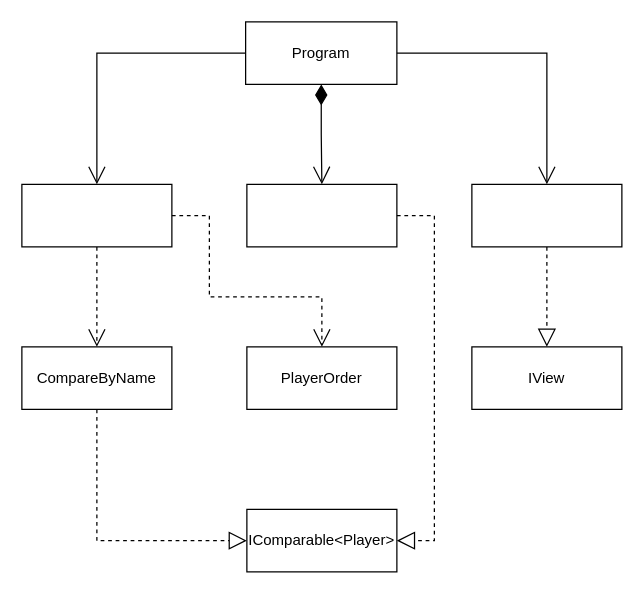
The diagram is 644 pixels wide and 594 high, and some of its shapes have lost their labels. Each missing label, with the centre of its shape:
Controller: [96,215]
Player: [321,215]
View: [546,215]
